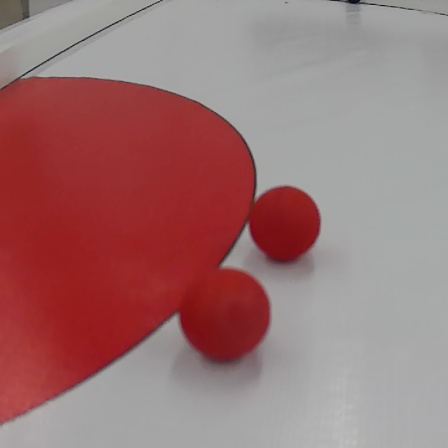red: (180, 265, 272, 364), (245, 183, 323, 260)
red_base: (2, 69, 257, 423)
